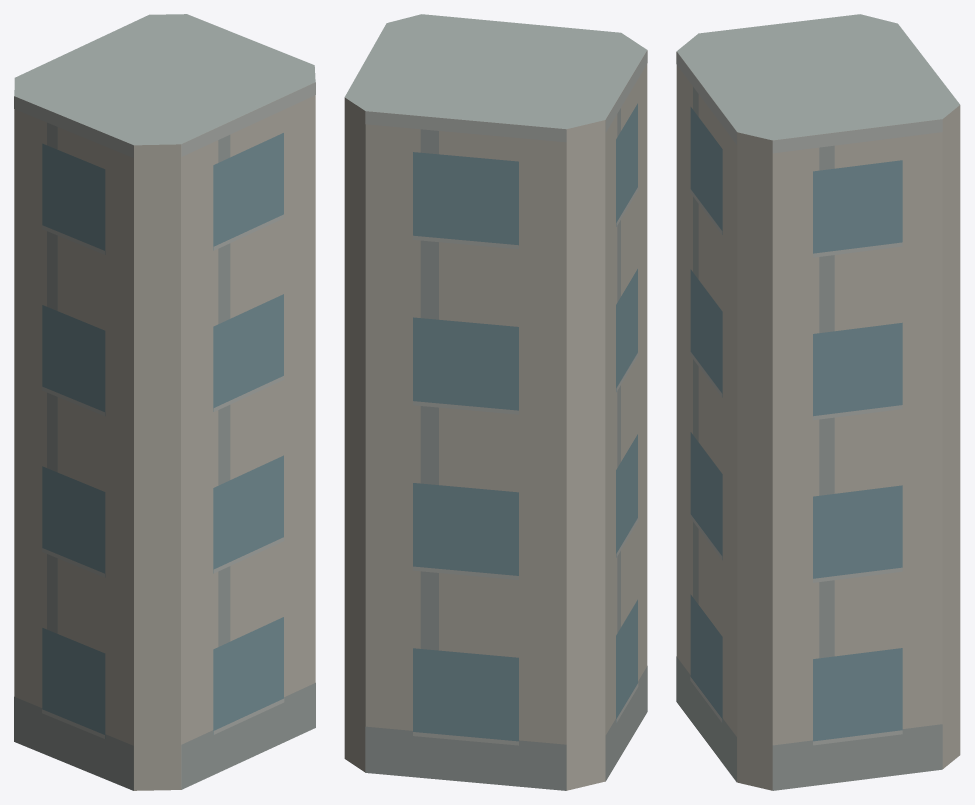
The model's file is survey-upis-32645571.glb.
3 renders of one model, left to right at view 1: azimuth 30°, elevation 25°; view 2: azimuth 150°, elevation 25°; view 3: azimuth 270°, elevation 25°, orthographic. The views are drawn at different scales.
Visible parts, largest first — view 1: survey-upis-32645571.tmp; view 2: survey-upis-32645571.tmp; view 3: survey-upis-32645571.tmp.
Boxes of the visible parts, x1,y1,x2,y2 form: survey-upis-32645571.tmp: (14,14,315,790); survey-upis-32645571.tmp: (344,14,647,790); survey-upis-32645571.tmp: (676,14,960,790).
Bounding box in the file's own units: 5.09 × 12.2 × 4.83.
